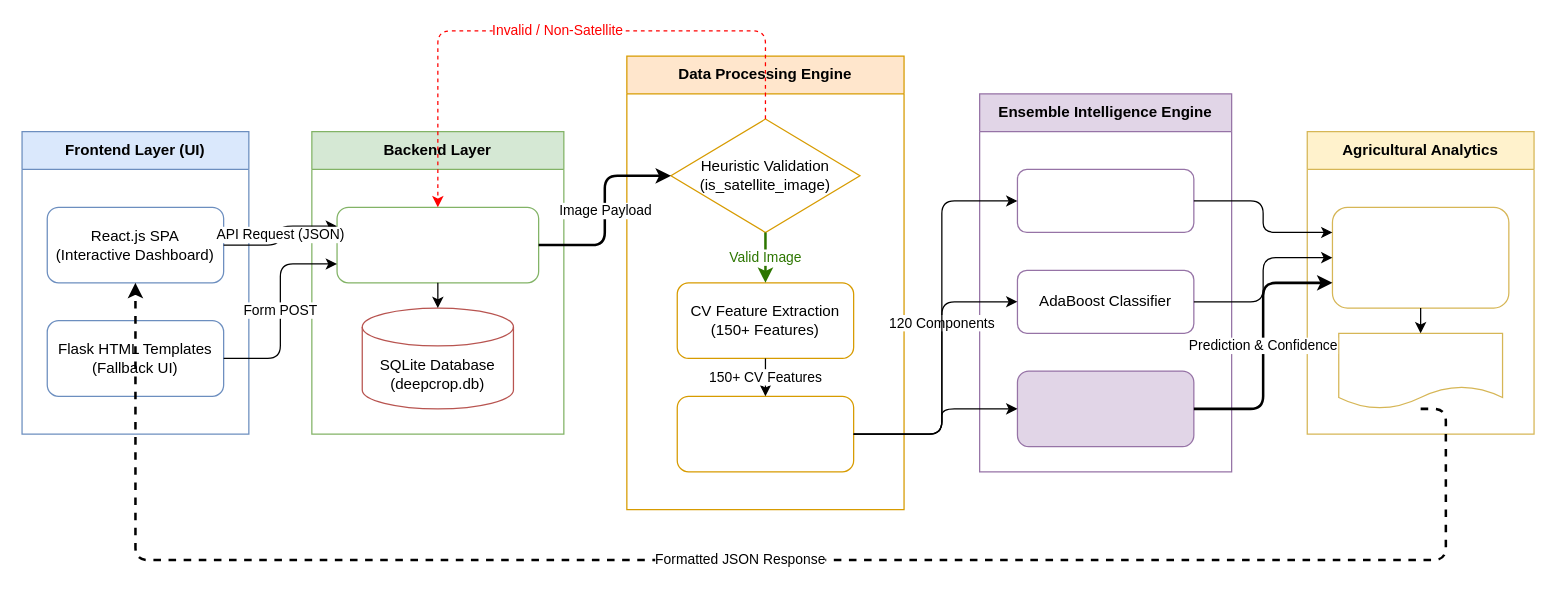
Image size: 1556x593. Some labels were removed from this diagram. The shapes that lost their labels are listed below. From the top down, each one's centre as x and y in pixels, then its label:
the point at 1105,200: Random Forest Classifier
the point at 437,244: Flask API Gateway (app.py)
the point at 1420,257: Result Synthesis & Crop Info Mapping
the point at 1420,370: Geographic / Climate Data Payload
the point at 1105,408: Hybrid Voting Model (Main Predictor)
the point at 765,433: PCA & StandardScaler (Dimension Reduction)
